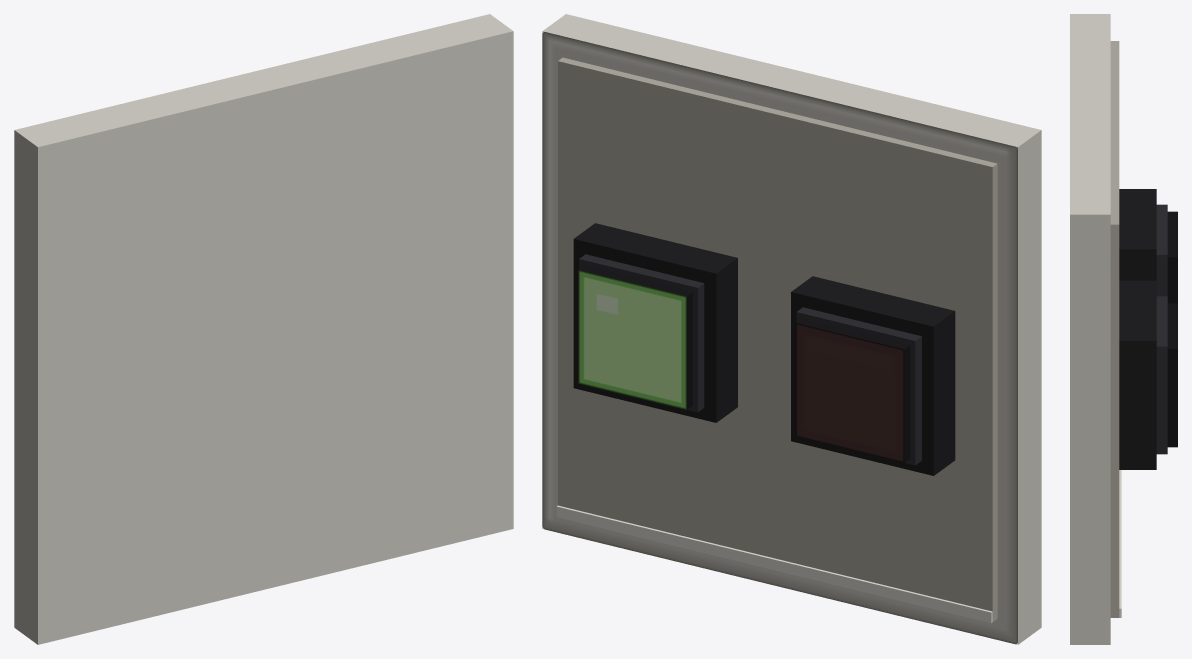
The model's file is indicator2_green.obj.
3 views of the same model, side by side, from view 1: azimuth 30°, elevation 25°; view 2: azimuth 150°, elevation 25°; view 3: azimuth 270°, elevation 25° (orthographic). The views are drawn at different scales.
Parts seen in each view (by area): view 1: Panel; view 2: Panel, LampRed, LampGreen; view 3: Panel, LampGreen, LampRed.
Part boxes in pixels (x1,y1,x2,y2): Panel: (14, 14, 513, 644); Panel: (542, 14, 1041, 644); LampRed: (791, 276, 955, 475); LampGreen: (573, 223, 737, 422); Panel: (1070, 14, 1121, 644); LampGreen: (1119, 280, 1177, 469); LampRed: (1119, 189, 1177, 303).
Bounding box in the file's own units: 0.875 × 0.875 × 0.1988.
Materials: 1 (1 with a texture image).
